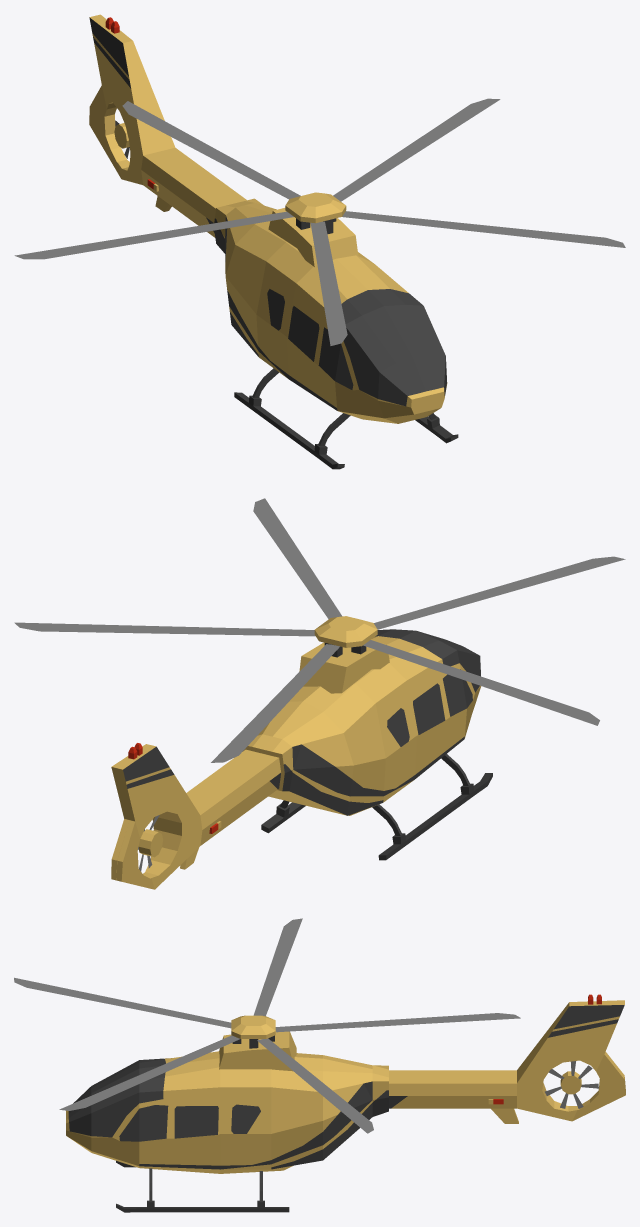
File: hilicopter.fbx
The picture shows the model from 3 angles, top to bottom: view 1: azimuth 30°, elevation 25°; view 2: azimuth 150°, elevation 25°; view 3: azimuth 270°, elevation 25°; orthographic projection. The views are drawn at different scales.
Visible parts, largest first — view 1: Hilicopter, Plane.695, Plane.697, Plane.696, Plane.698, Plane.699, Cube.4829, Cube.4835; view 2: Hilicopter, Cube.4829, Plane.698, Plane.695, Plane.696, Plane.699, Plane.697, Cube.4835, Circle.417; view 3: Hilicopter, Cube.4829, Plane.699, Plane.696, Plane.697, Plane.698, Plane.695, Cube.4835.
Part boxes in pixels (<box>): Hilicopter: <box>89,14,458,469</box>; Plane.695: <box>14,211,293,259</box>; Plane.697: <box>342,211,625,247</box>; Plane.696: <box>310,221,347,345</box>; Plane.698: <box>333,98,500,201</box>; Plane.699: <box>122,101,300,199</box>; Cube.4829: <box>268,208,358,267</box>; Cube.4835: <box>285,192,346,223</box>; Hilicopter: <box>111,629,492,889</box>; Cube.4829: <box>299,642,389,693</box>; Plane.698: <box>14,622,315,636</box>; Plane.695: <box>363,640,599,725</box>; Plane.696: <box>374,556,625,629</box>; Plane.699: <box>211,644,339,762</box>; Plane.697: <box>253,498,342,619</box>; Cube.4835: <box>314,616,377,647</box>; Circle.417: <box>138,829,162,857</box>; Hilicopter: <box>66,1000,625,1212</box>; Cube.4829: <box>219,1031,296,1071</box>; Plane.699: <box>275,1013,520,1032</box>; Plane.696: <box>14,977,231,1028</box>; Plane.697: <box>59,1035,239,1110</box>; Plane.698: <box>257,1038,373,1133</box>; Plane.695: <box>253,918,302,1016</box>; Cube.4835: <box>231,1015,275,1038</box>.
Size of what is drawn, in the model's own units: 218 by 91.49 by 261.
